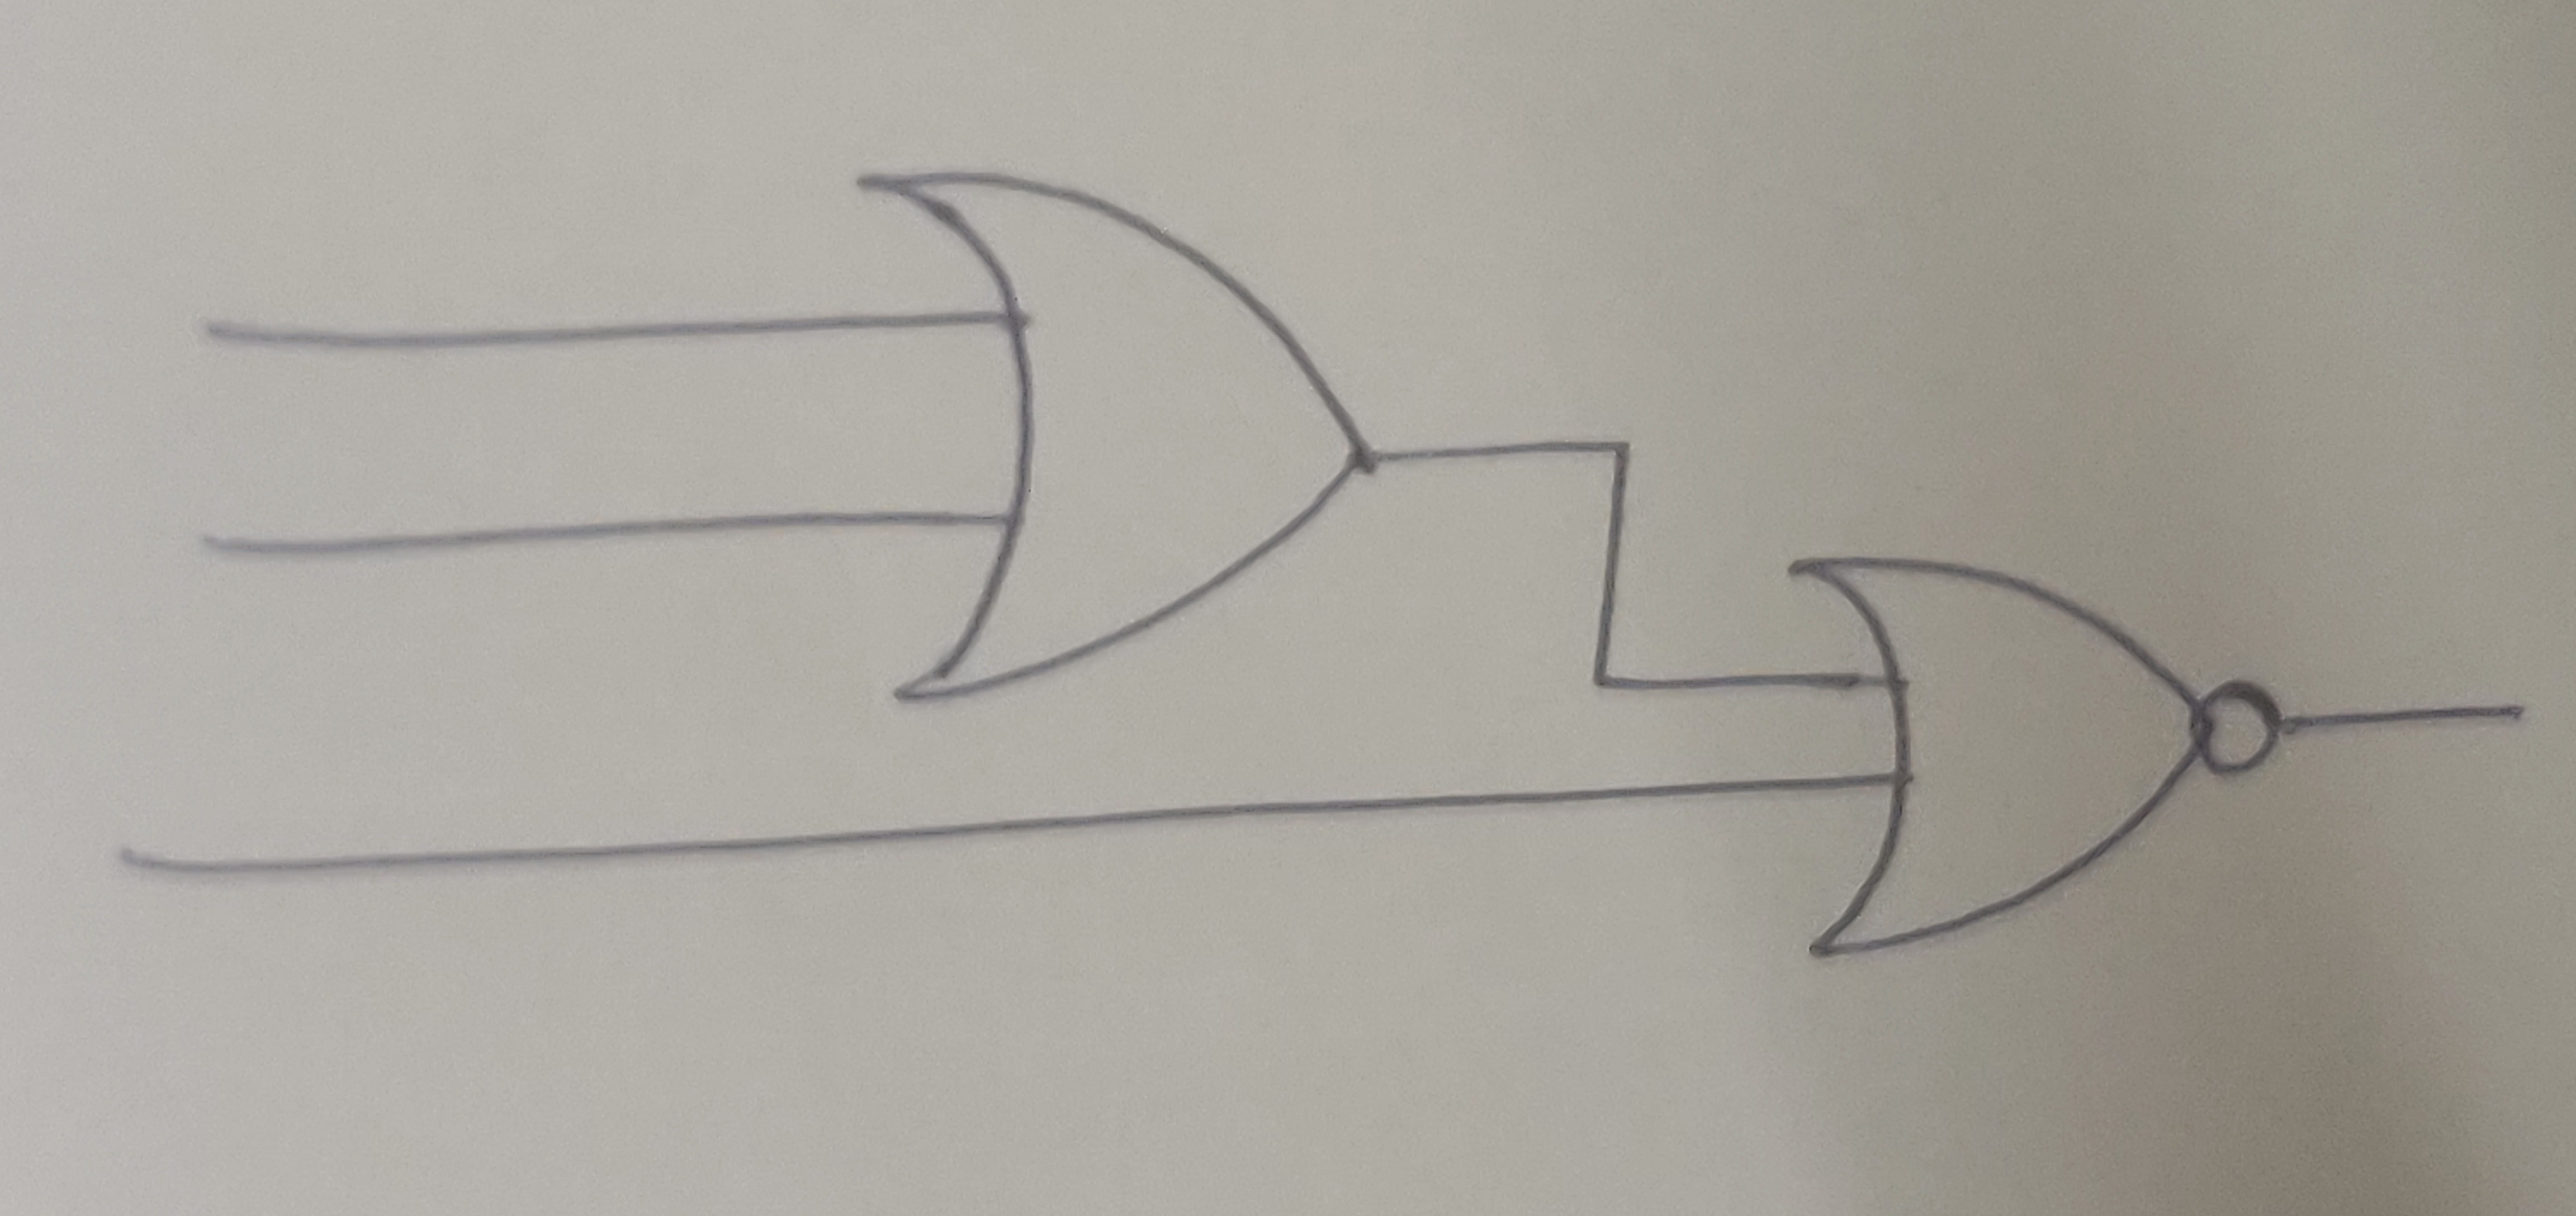not: (2192, 677, 2284, 792)
or: (835, 164, 1393, 716), (1778, 549, 2208, 963)
